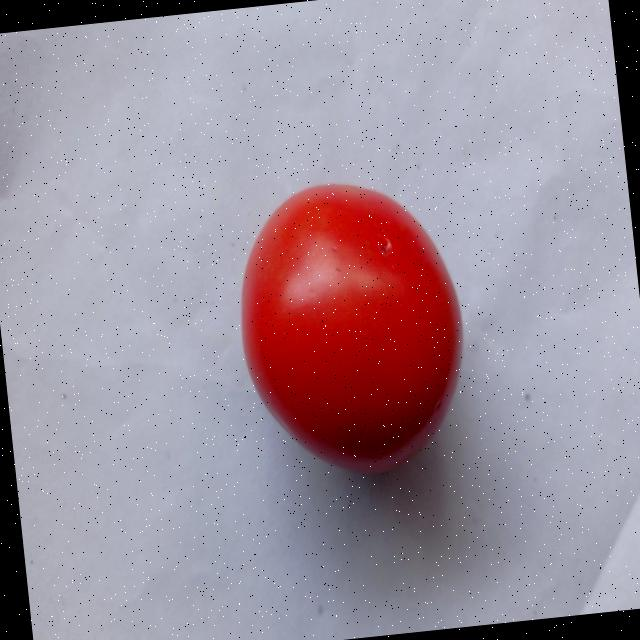Ripe: (222, 165, 478, 488)
